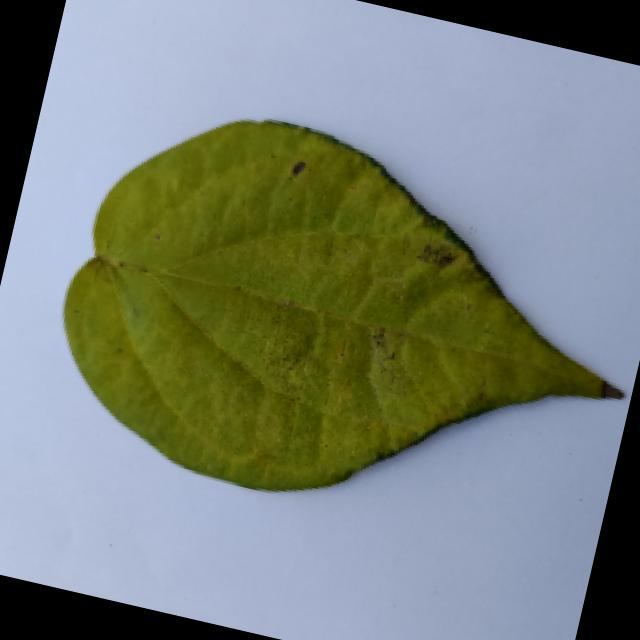slow-decline: (13, 76, 640, 566)
